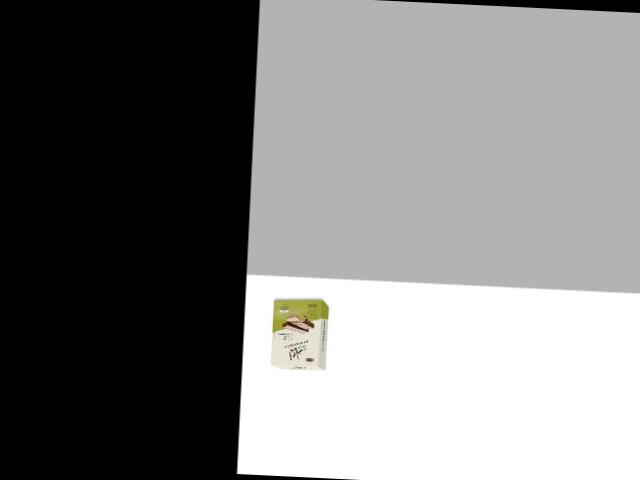chocolate: (269, 295, 333, 371)
